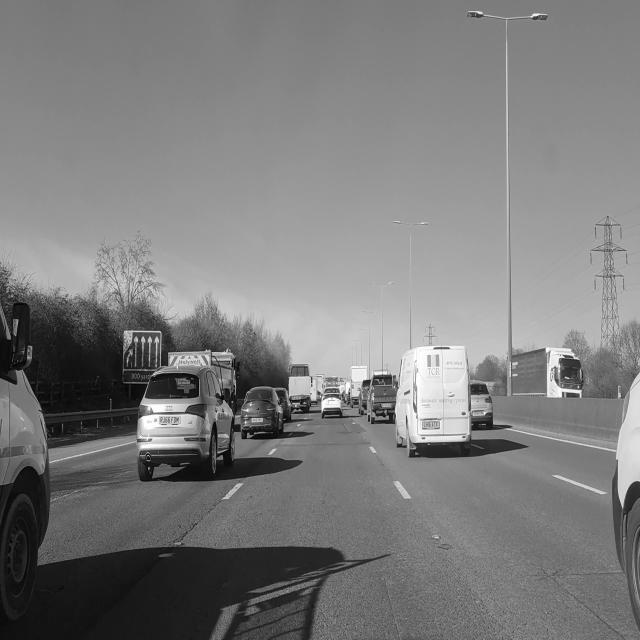car: (0, 303, 50, 626), (137, 366, 234, 481), (395, 346, 471, 457), (612, 375, 639, 629), (241, 387, 283, 438), (367, 371, 396, 423), (470, 380, 493, 429), (321, 388, 342, 418), (276, 388, 292, 421), (358, 379, 370, 415)
